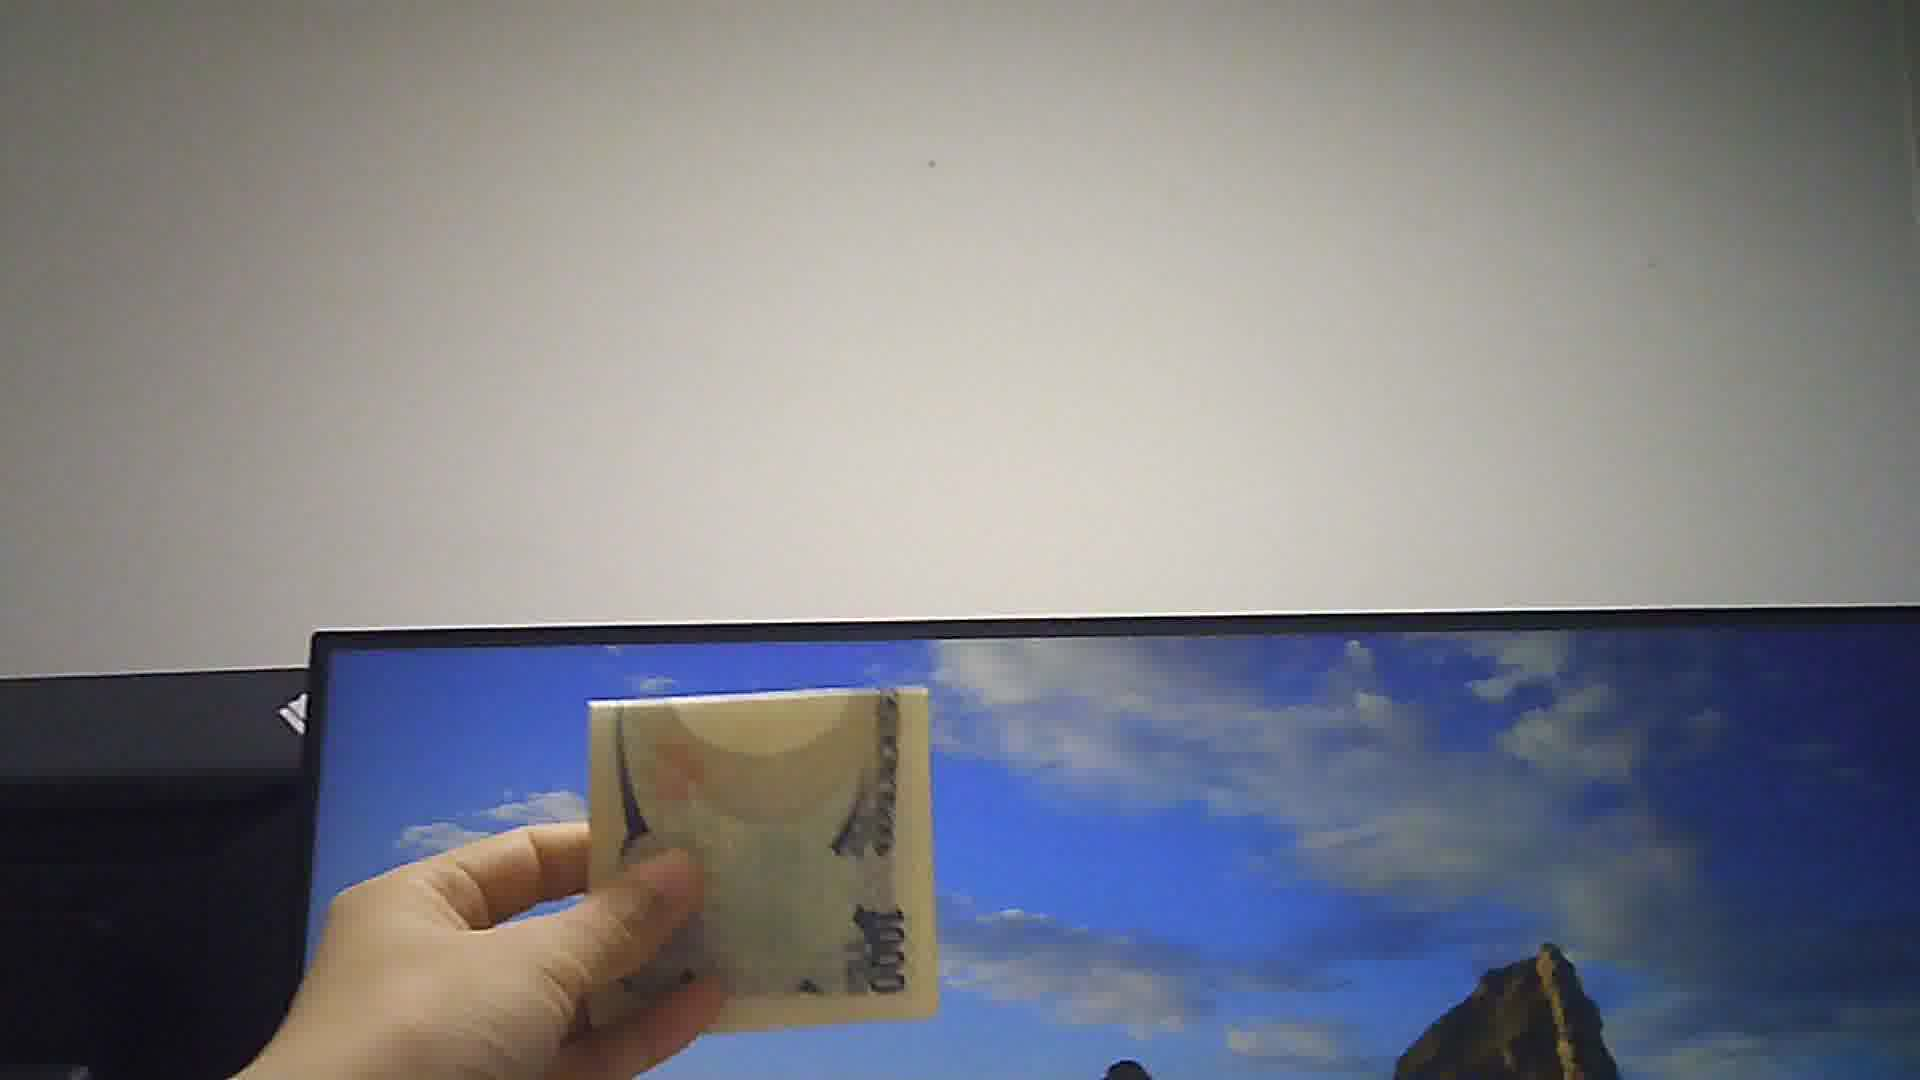1,000 Yen: (570, 676, 939, 1029)
